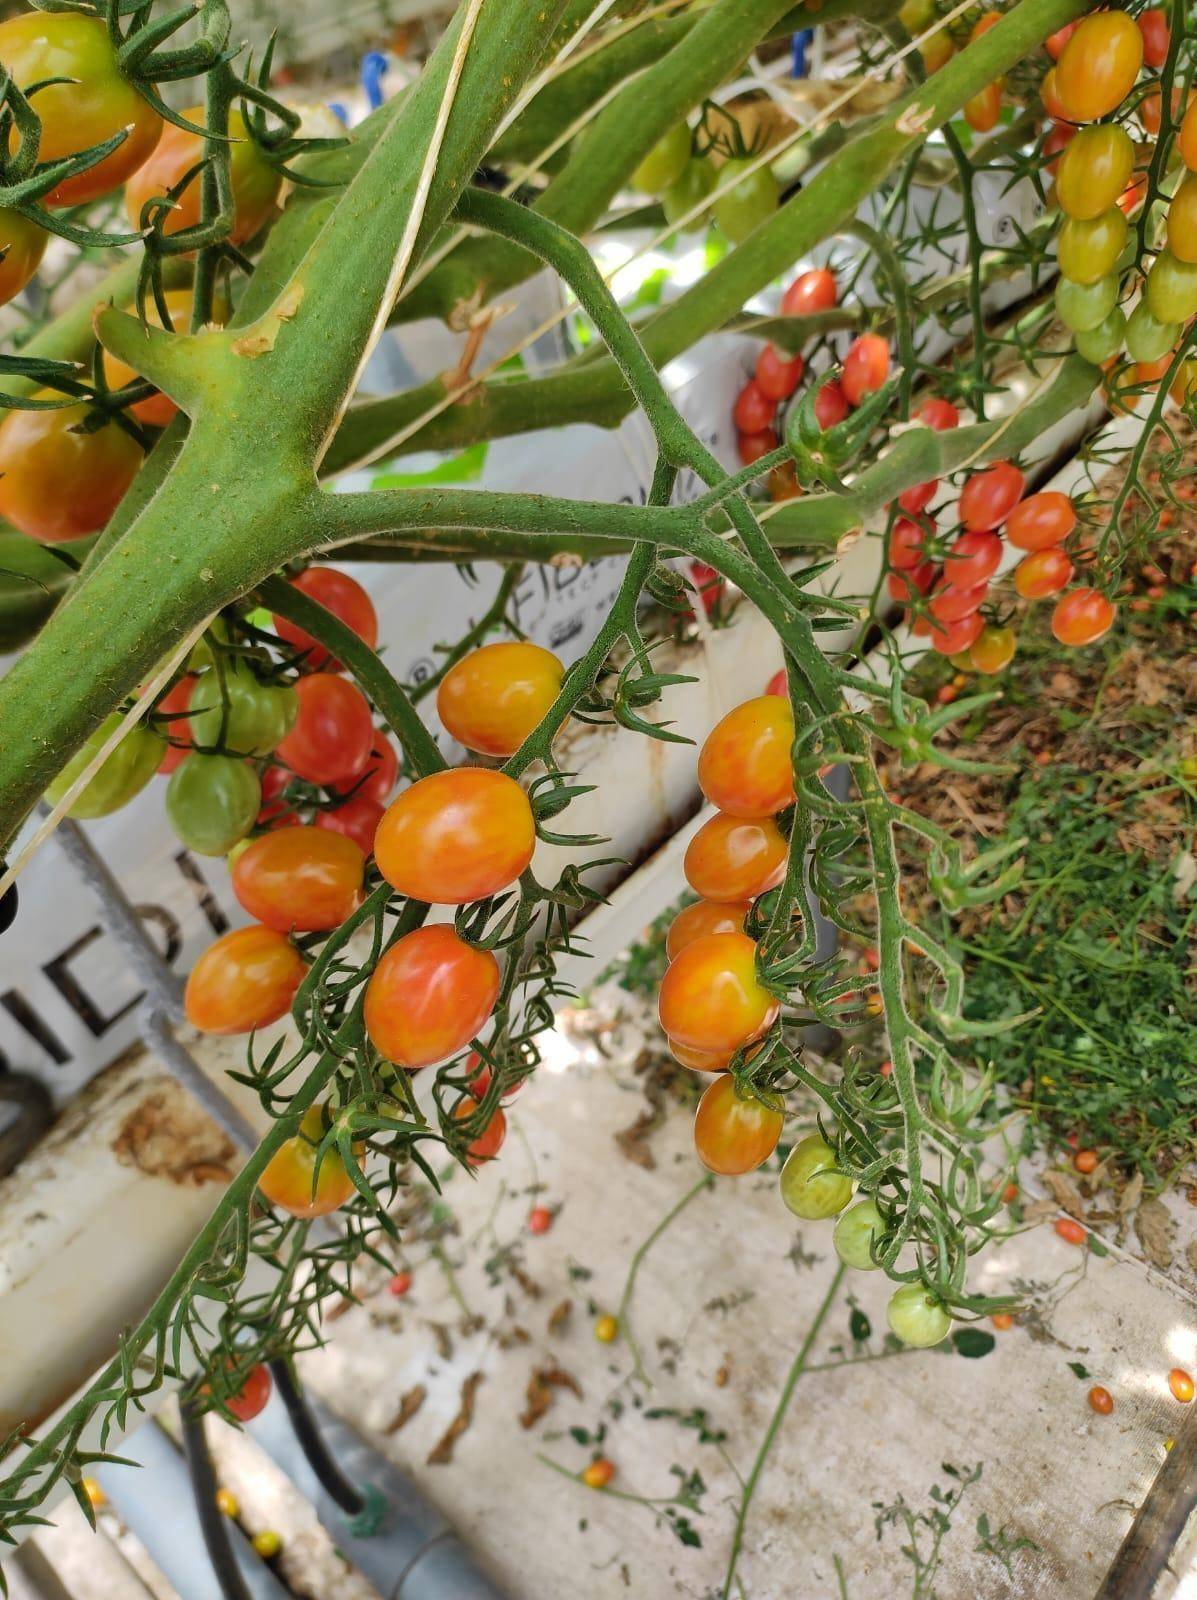Rugose stem: (0, 0, 928, 1253), (863, 791, 915, 1124)
Rugose tomato: (0, 238, 168, 562), (0, 0, 163, 211), (659, 931, 778, 1053), (231, 825, 366, 931), (697, 694, 793, 818), (684, 812, 787, 904), (694, 1075, 785, 1175), (778, 1135, 854, 1219)
